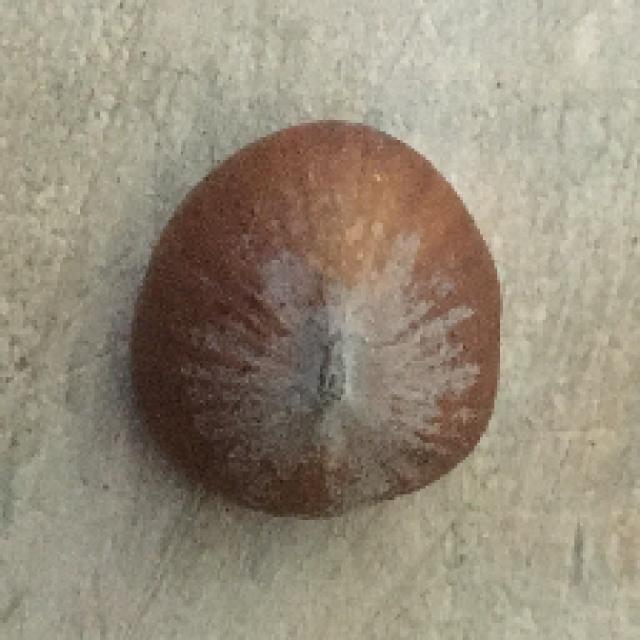qualityHazelnut: (124, 118, 500, 519)
